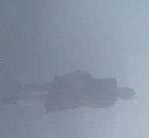person: (18, 69, 135, 110)
